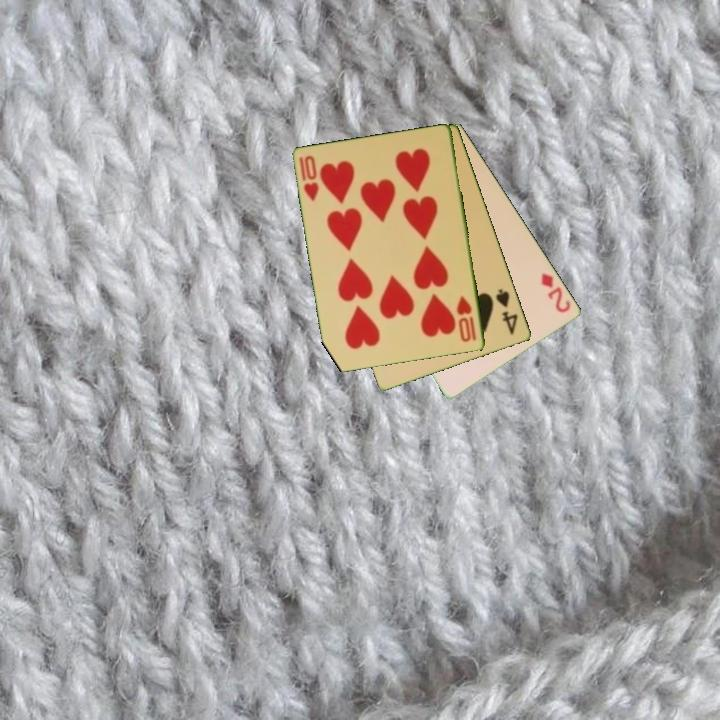10h: (453, 293, 480, 345), (296, 152, 322, 204)
2d: (538, 269, 574, 316)
4s: (492, 285, 521, 338)
